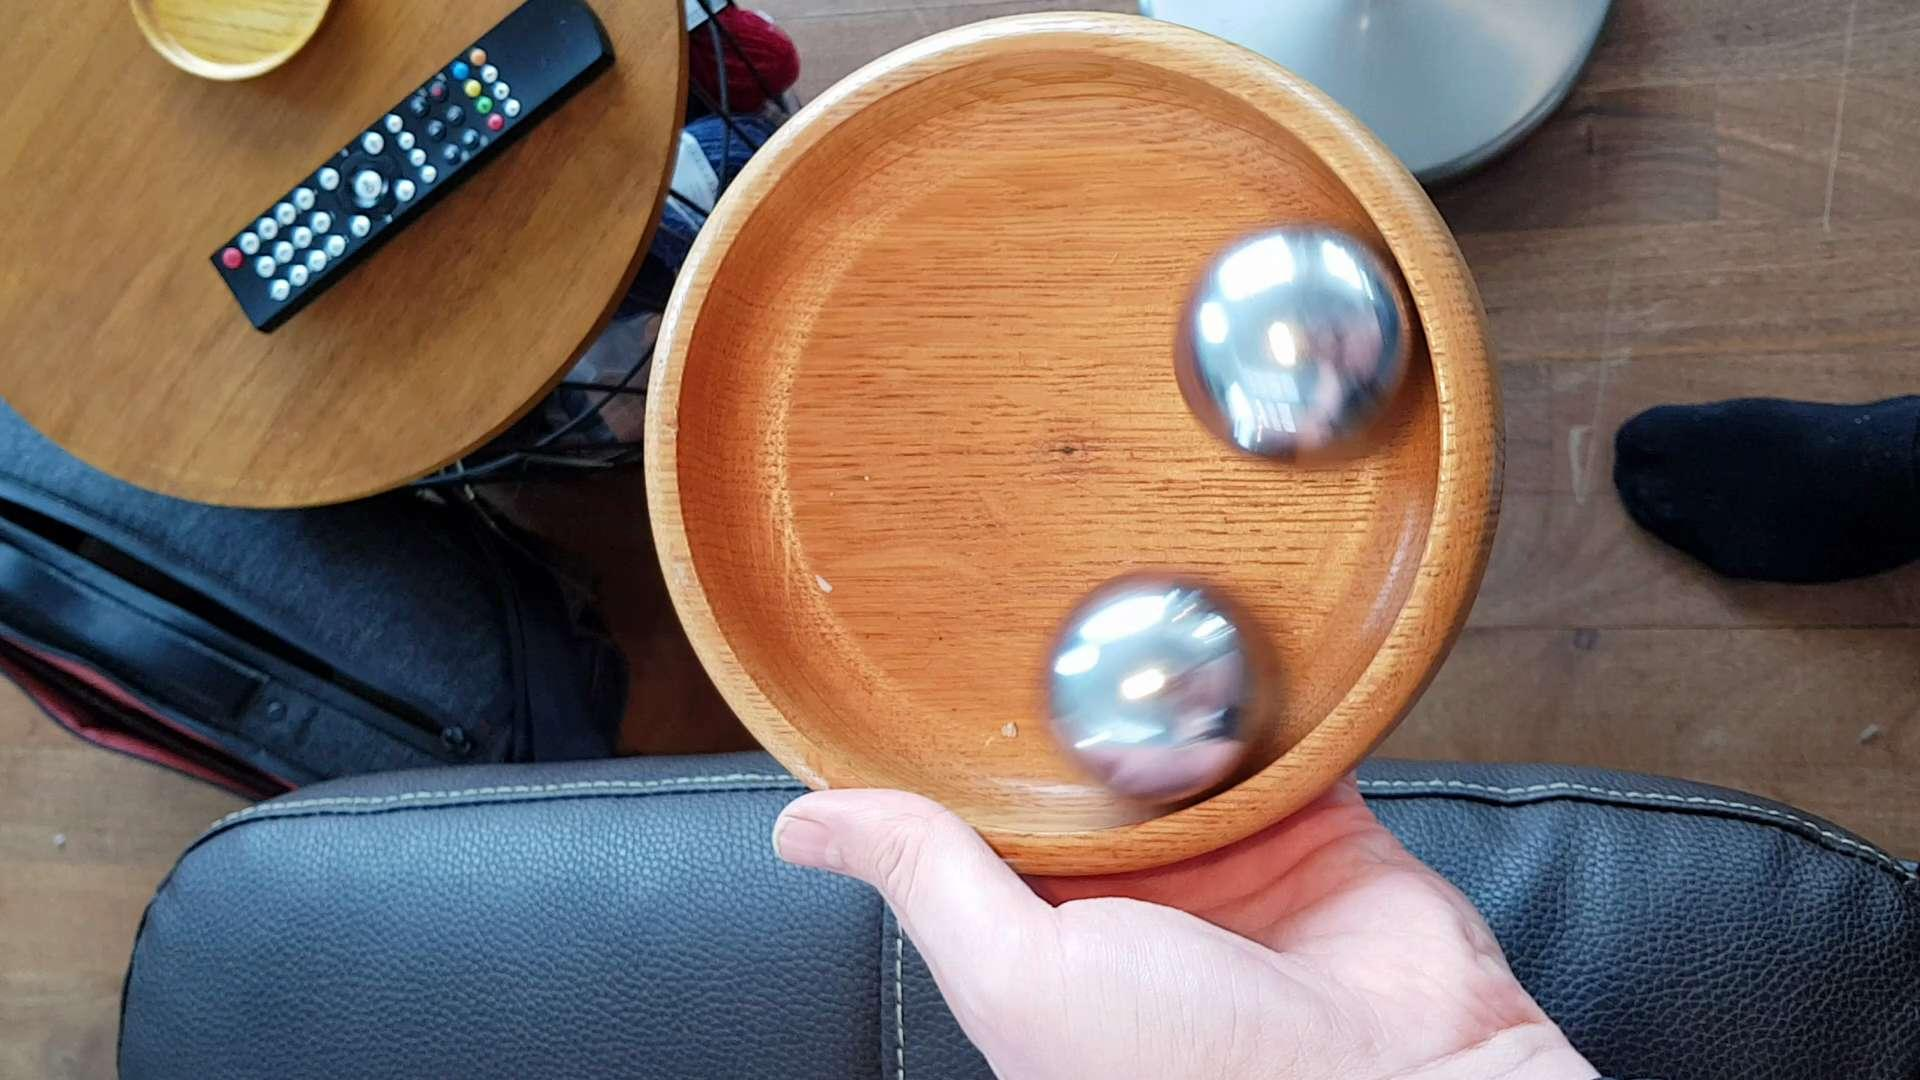sphere: (1034, 560, 1294, 818), (1166, 210, 1425, 465)
